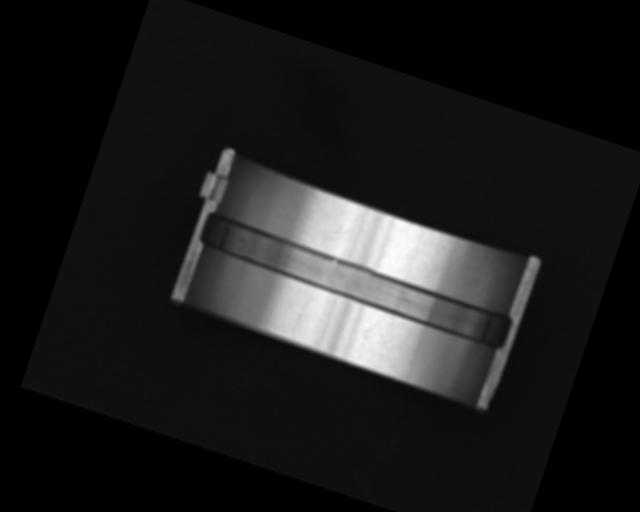gap: (196, 211, 517, 353)
nick: (291, 301, 309, 333)
